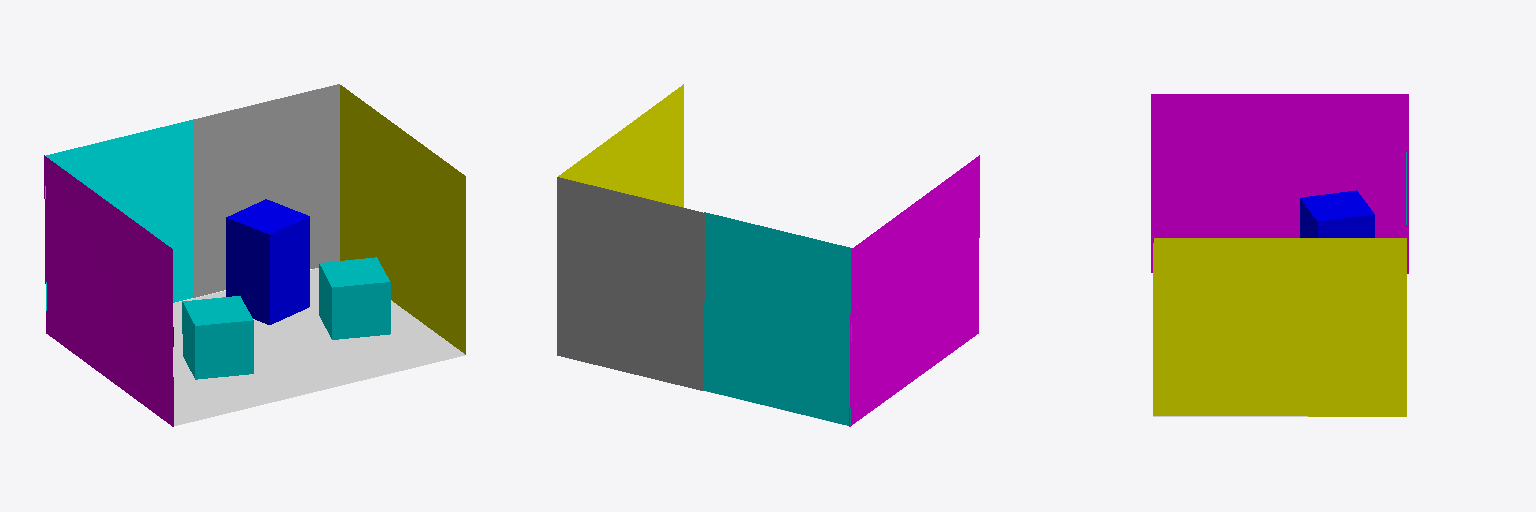
3 renders of one model, left to right at view 1: azimuth 30°, elevation 25°; view 2: azimuth 150°, elevation 25°; view 3: azimuth 270°, elevation 25°, orthographic.
Parts seen in each view (by area): view 1: left_wall, right_wall, MirrorWall_back_wall, floor, back_wall_back_wall.001, tall_box.001, short_box, short_box.001; view 2: MirrorWall_back_wall, back_wall_back_wall.001, left_wall, right_wall; view 3: right_wall, left_wall, tall_box.
Part boxes in pixels (bbox=[...]): left_wall: bbox=[44, 155, 173, 426]; right_wall: bbox=[340, 85, 465, 354]; MirrorWall_back_wall: bbox=[194, 84, 339, 297]; floor: bbox=[173, 268, 464, 425]; back_wall_back_wall.001: bbox=[45, 119, 193, 310]; tall_box.001: bbox=[226, 199, 309, 324]; short_box: bbox=[182, 296, 253, 379]; short_box.001: bbox=[319, 257, 390, 339]; MirrorWall_back_wall: bbox=[557, 177, 704, 390]; back_wall_back_wall.001: bbox=[704, 212, 851, 425]; left_wall: bbox=[849, 155, 979, 426]; right_wall: bbox=[558, 84, 683, 207]; right_wall: bbox=[1153, 238, 1406, 416]; left_wall: bbox=[1151, 94, 1408, 273]; tall_box: bbox=[1300, 190, 1374, 237].
Bounding box in the file's own units: 9.49 × 5.54 × 7.17.